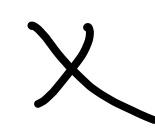mult: (26, 22, 155, 125)
